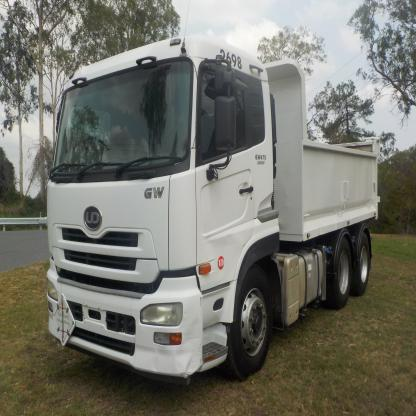dump_truck: (42, 34, 385, 384)
